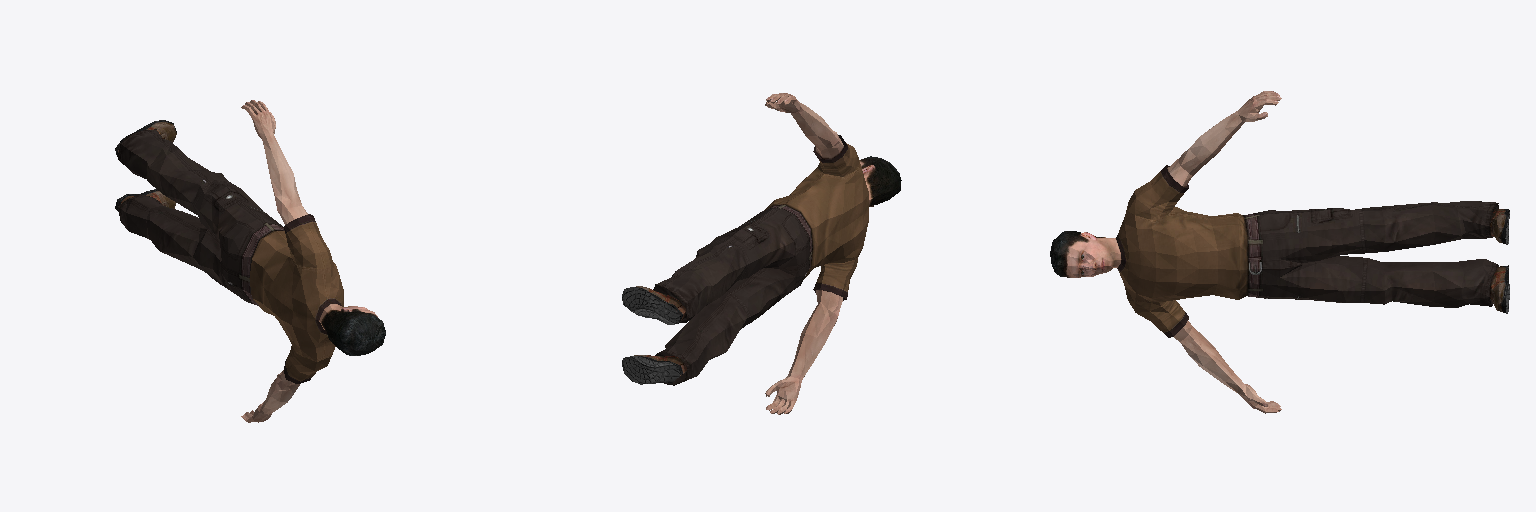
The picture shows the model from 3 angles: view 1: azimuth 30°, elevation 25°; view 2: azimuth 150°, elevation 25°; view 3: azimuth 270°, elevation 25°; orthographic projection.
Visible parts, largest first — view 1: Man; view 2: Man; view 3: Man.
Part boxes in pixels (bbox=[...]): Man: bbox=[115, 100, 385, 422]; Man: bbox=[622, 93, 901, 414]; Man: bbox=[1050, 91, 1509, 413].
Bounding box in the file's own units: 0.3083 × 1.39 × 1.83.
1 materials, 1 textured.